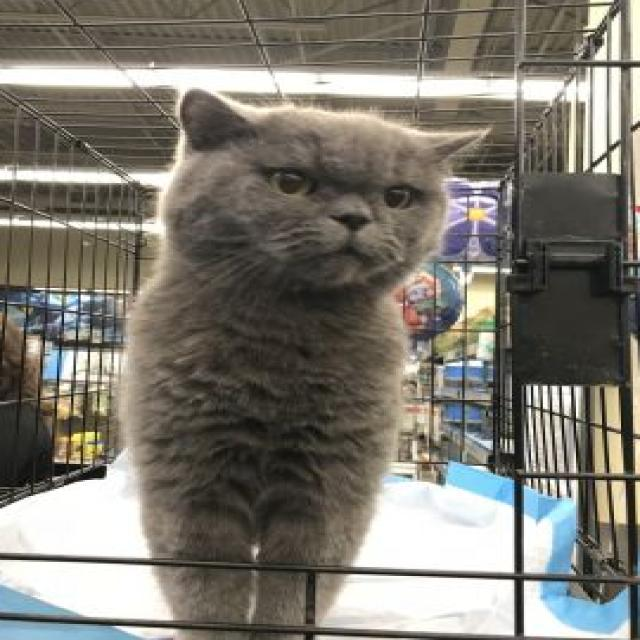British Shorthair: (121, 85, 491, 640)
